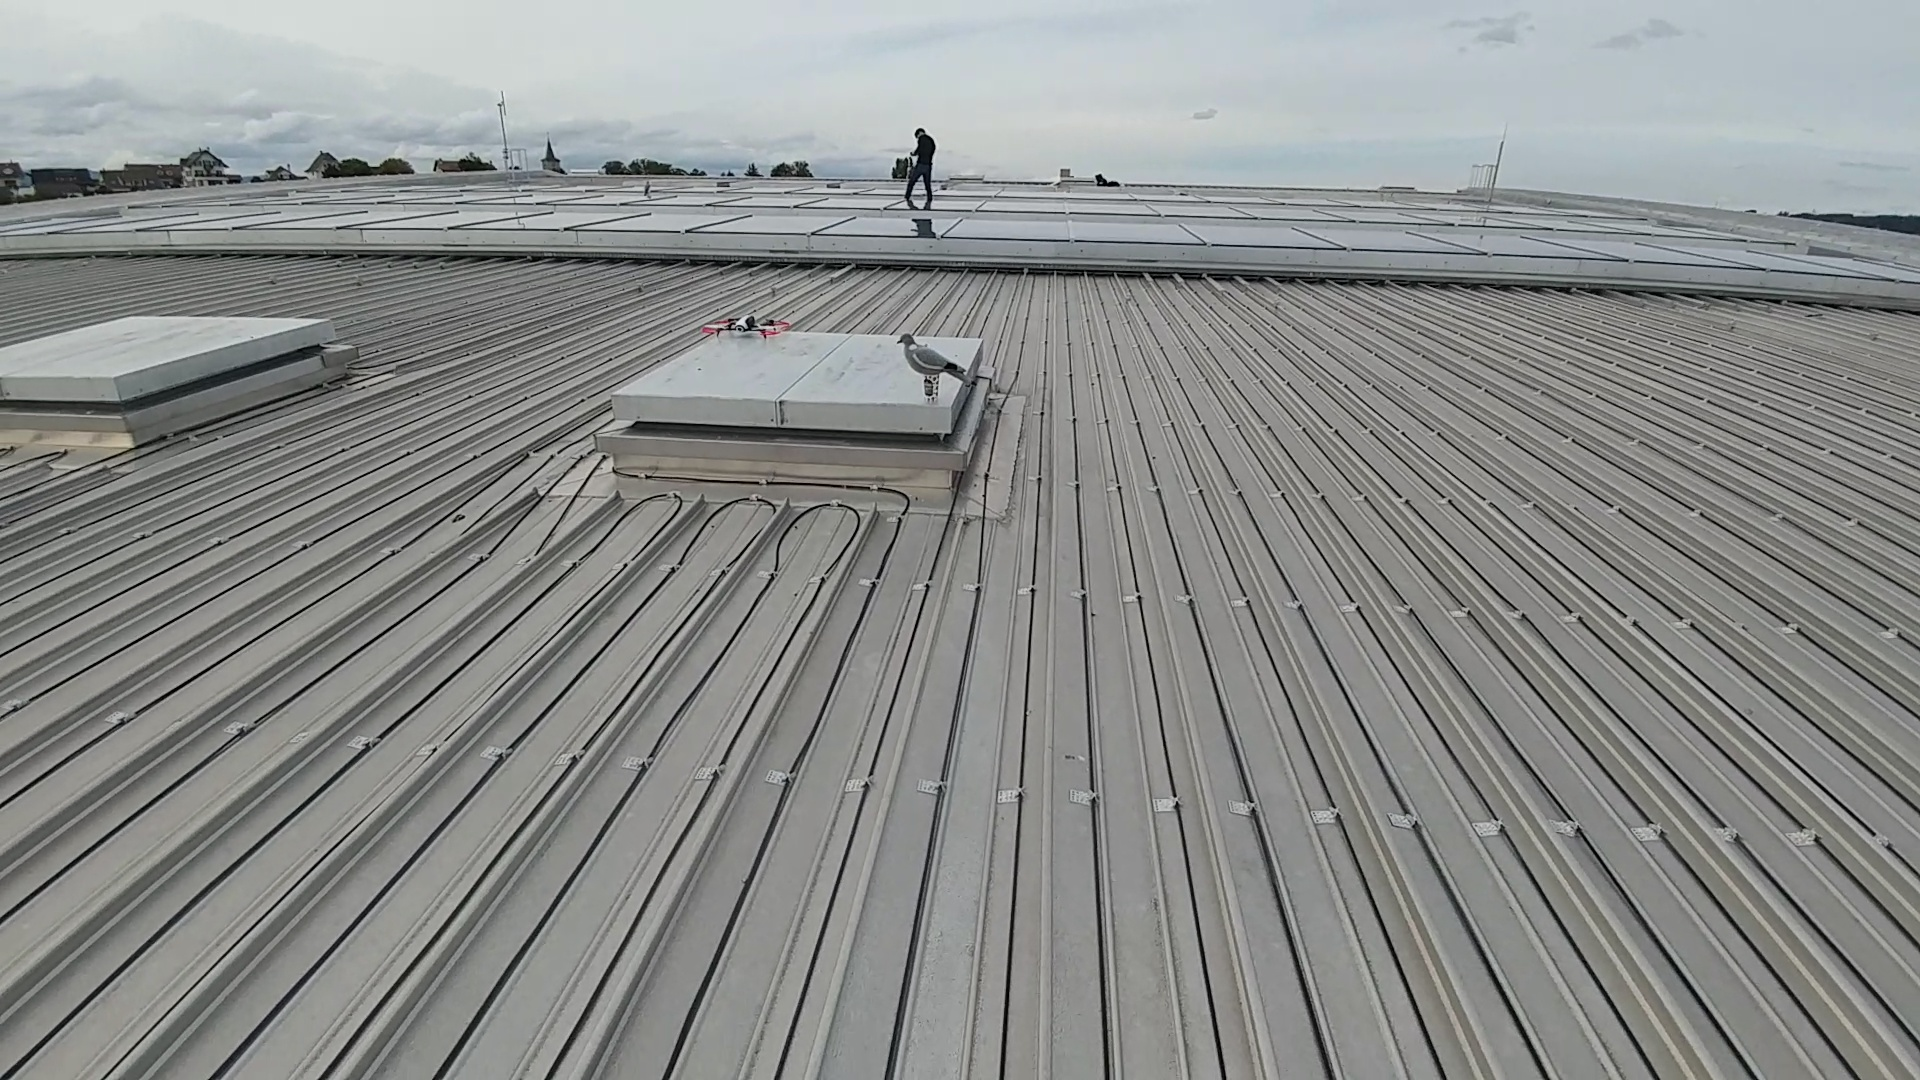Pigeon: (891, 328, 972, 377)
